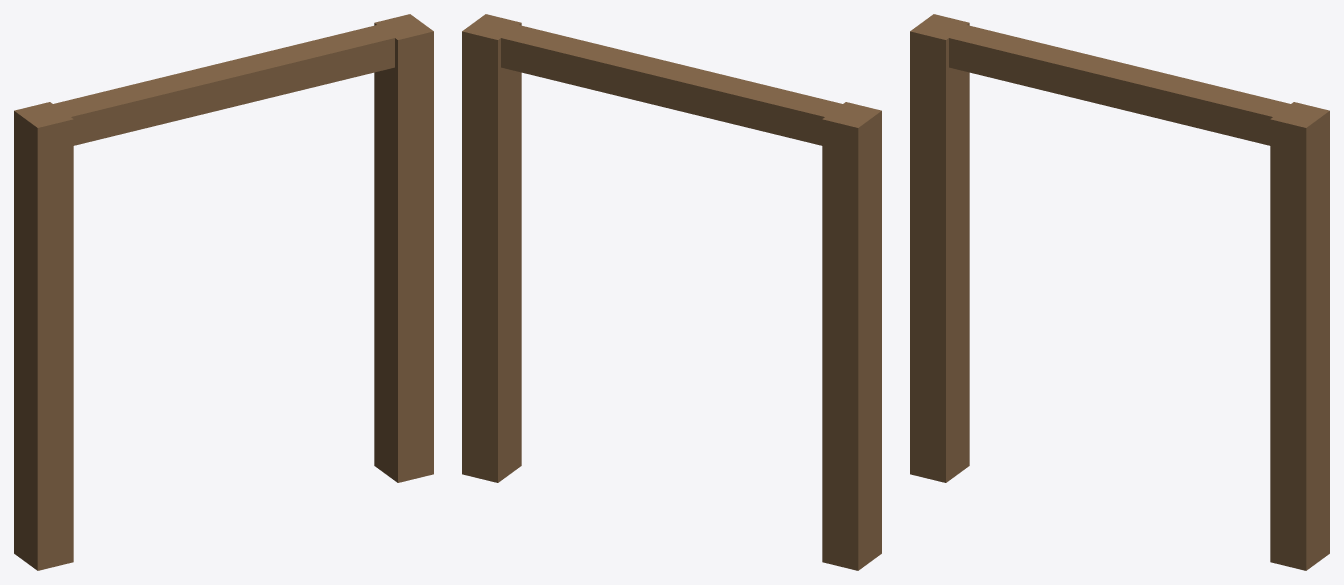
Rendered from railing-2.glb.
3 renders of one model, left to right at view 1: azimuth 30°, elevation 25°; view 2: azimuth 150°, elevation 25°; view 3: azimuth 330°, elevation 25°, orthographic.
Visible parts, largest first — view 1: railing; view 2: railing; view 3: railing.
Part boxes in pixels (x1,y1,x2,y2): railing: (14,14,433,570); railing: (462,14,881,570); railing: (910,14,1329,570).
Bounding box in the file's own units: 2.81 × 3 × 0.2918.
